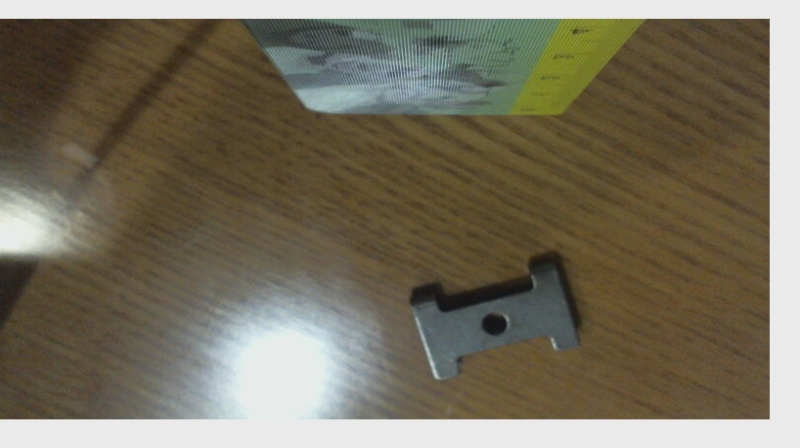O002: (407, 251, 584, 381)
